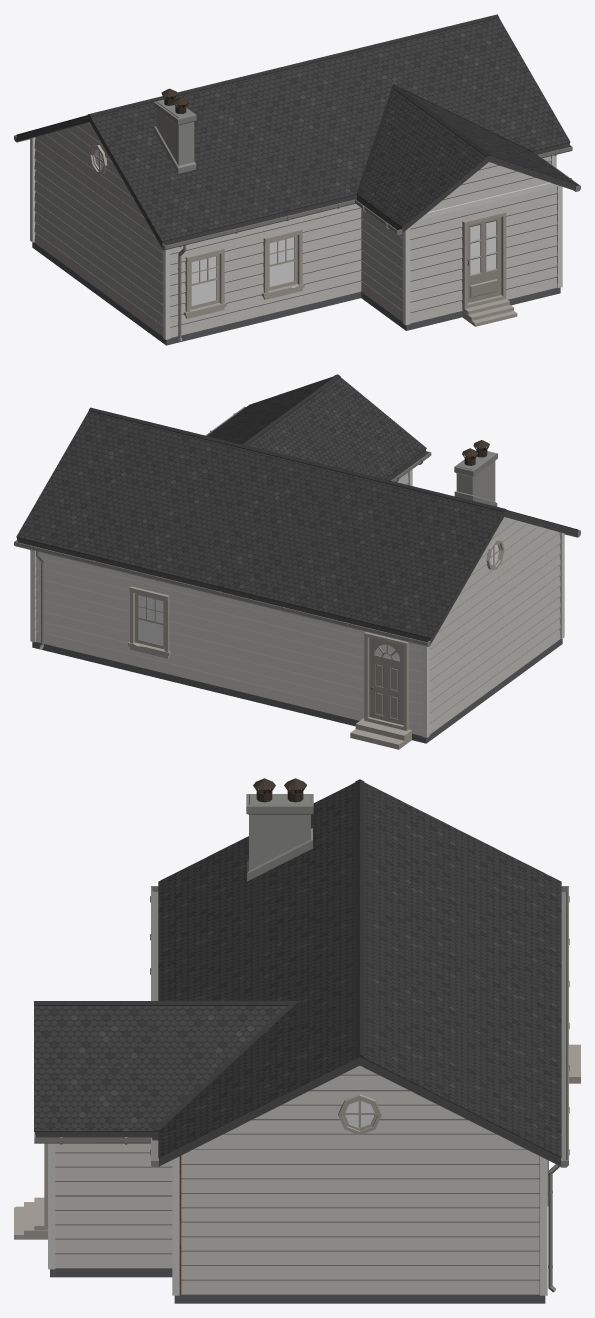
The model's file is SM_Bldg_Suburb_House_02.fbx.
3 views of the same model, one above another, from view 1: azimuth 30°, elevation 25°; view 2: azimuth 150°, elevation 25°; view 3: azimuth 270°, elevation 25° (orthographic). The views are drawn at different scales.
Parts seen in each view (by area): view 1: SM_Bldg_Suburb_House_02, SM_Bldg_Suburb_House_02_Glass; view 2: SM_Bldg_Suburb_House_02, SM_Bldg_Suburb_House_02_Glass; view 3: SM_Bldg_Suburb_House_02.
Boxes of the visible parts, <box> form: SM_Bldg_Suburb_House_02: <box>14,14,580,345</box>; SM_Bldg_Suburb_House_02_Glass: <box>94,149,293,305</box>; SM_Bldg_Suburb_House_02: <box>14,374,580,749</box>; SM_Bldg_Suburb_House_02_Glass: <box>138,544,498,645</box>; SM_Bldg_Suburb_House_02: <box>14,778,580,1303</box>.
Size of the model in its own units: 1310 by 654 by 1139.
